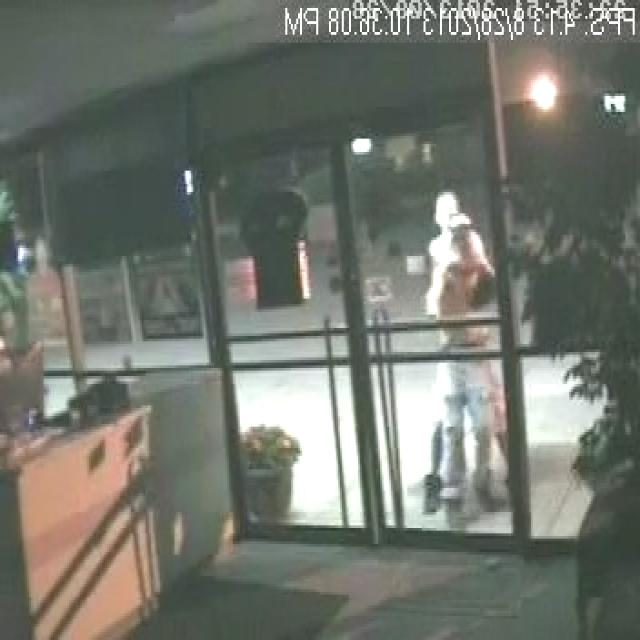fight: (388, 144, 530, 522)
